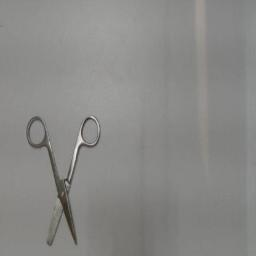Dressing Scissors: (22, 108, 106, 256)
